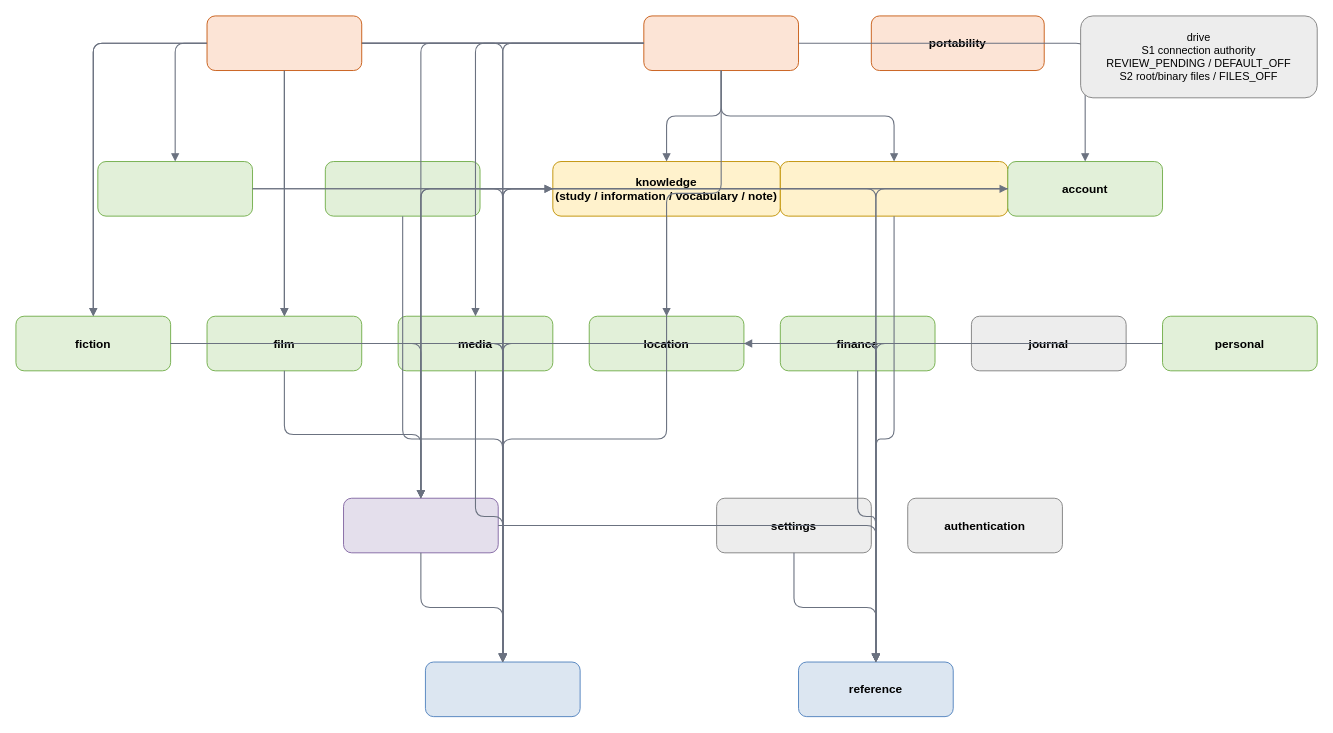
Some shapes in this 1333 by 733 pixel diagram are drawn without their labels. Here are the shapes that lost their labels. From the top down, the centre of each, then its label:
point 284,43: rag
point 721,43: search
point 175,188: feed
point 402,188: importdata
point 893,188: collection (music / shopping / software)
point 420,525: people
point 502,689: vault (Shared Core)
